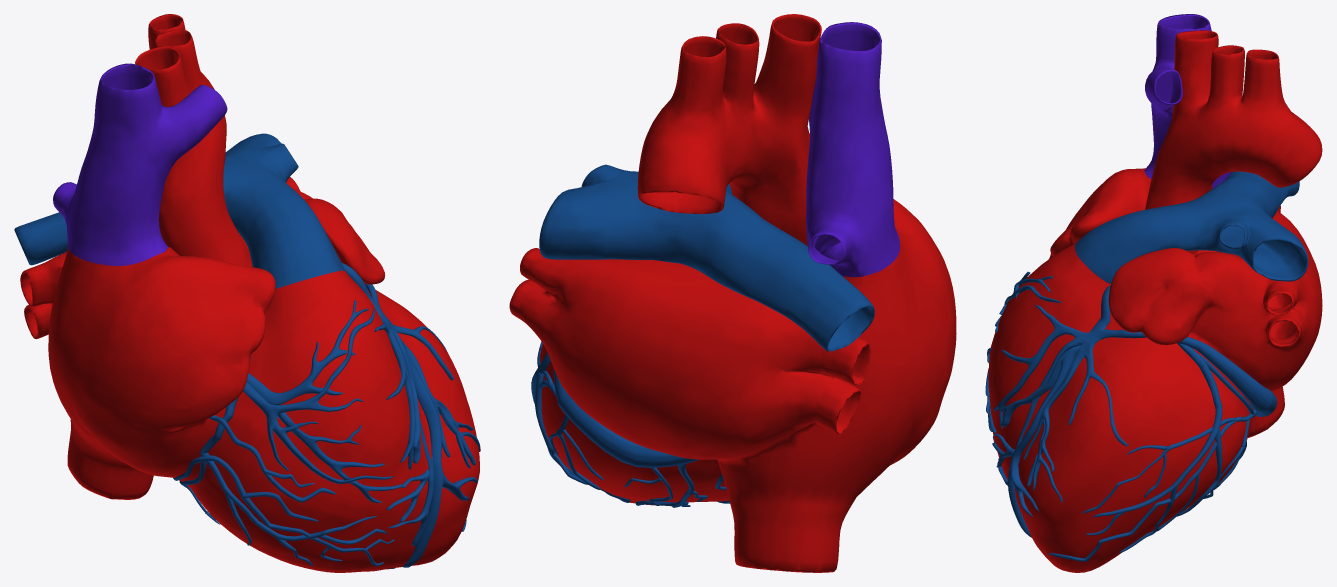
Rendered from heart.fbx.
3 renders of one model, left to right at view 1: azimuth 30°, elevation 25°; view 2: azimuth 150°, elevation 25°; view 3: azimuth 270°, elevation 25°, orthographic. The views are drawn at different scales.
Parts seen in each view (by area): view 1: sub03, sub01, sub02; view 2: sub03, sub01, sub02; view 3: sub03, sub01, sub02.
Boxes of the visible parts, x1,y1,x2,y2 form: sub03: [20, 14, 479, 572]; sub01: [14, 133, 480, 569]; sub02: [53, 63, 227, 265]; sub03: [509, 14, 956, 572]; sub01: [531, 164, 874, 507]; sub02: [806, 22, 899, 277]; sub03: [988, 30, 1322, 572]; sub01: [985, 171, 1308, 561]; sub02: [1082, 14, 1232, 333].
Bounding box in the file's own units: 88.5 × 121 × 81.32.
